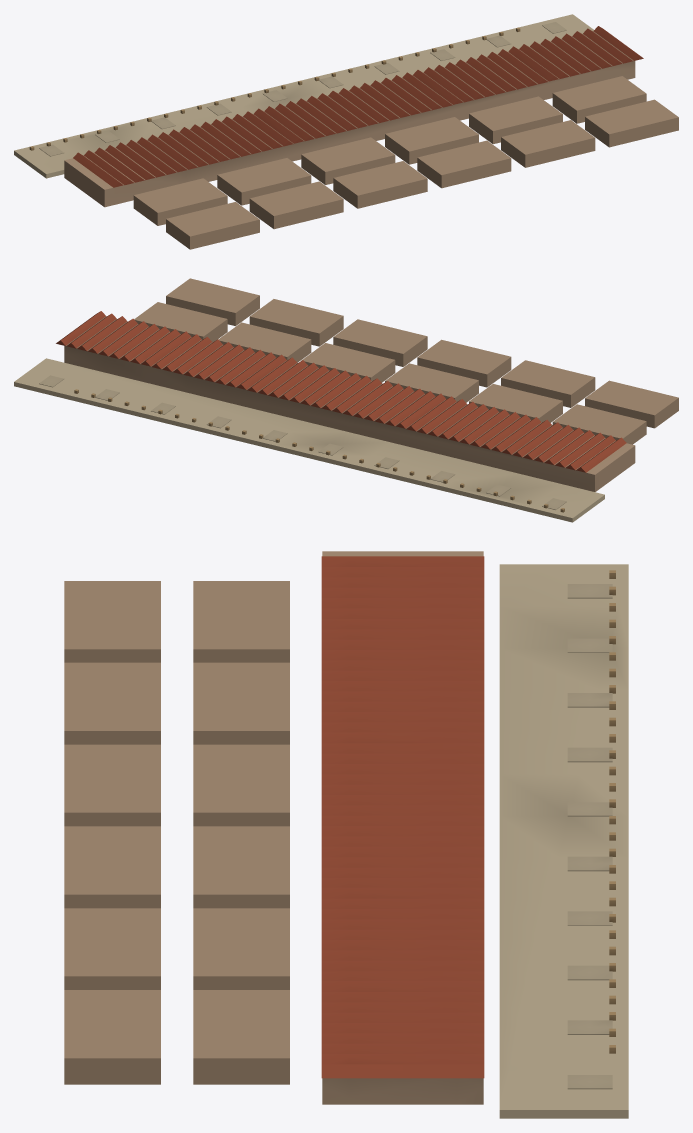
Rendered from emporium.glb.
3 renders of one model, top to bottom at view 1: azimuth 30°, elevation 25°; view 2: azimuth 150°, elevation 25°; view 3: azimuth 270°, elevation 25°, orthographic. The views are drawn at different scales.
Parts seen in each view (by area): view 1: p1_warehouses, p2_roofs, p0_quay; view 2: p1_warehouses, p2_roofs, p0_quay; view 3: p1_warehouses, p2_roofs, p0_quay.
Part boxes in pixels (bbox=[...]): p1_warehouses: bbox=[64, 31, 678, 249]; p2_roofs: bbox=[29, 26, 643, 187]; p0_quay: bbox=[14, 14, 593, 178]; p1_warehouses: bbox=[64, 278, 678, 491]; p2_roofs: bbox=[56, 311, 626, 512]; p0_quay: bbox=[14, 358, 604, 522]; p1_warehouses: bbox=[64, 551, 483, 1104]; p2_roofs: bbox=[321, 556, 615, 1078]; p0_quay: bbox=[499, 564, 628, 1118].
Bounding box in the file's own units: 400 × 15.16 × 175.
